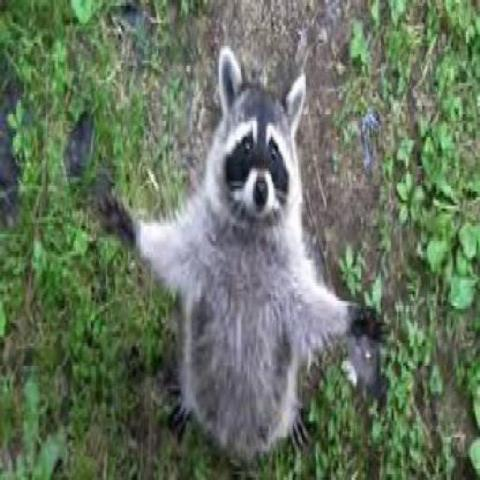small_animal: (66, 41, 380, 463)
